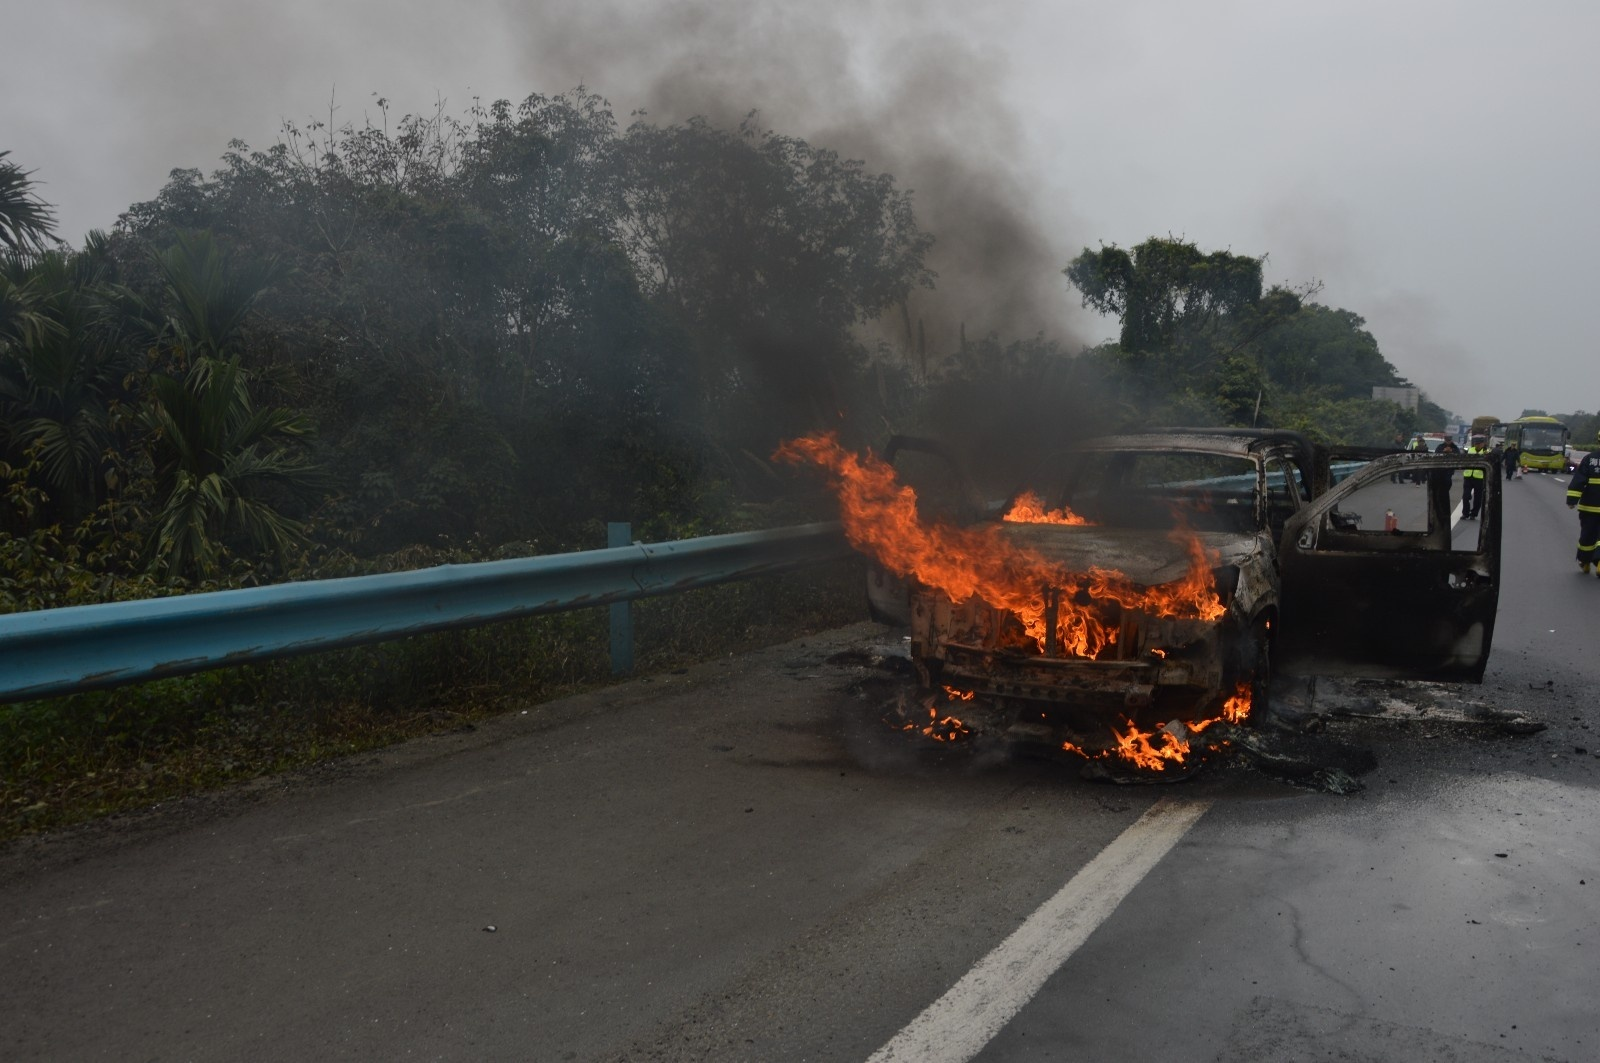fire: (777, 416, 1254, 774)
